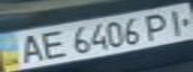0: (103, 18, 127, 48)
4: (87, 20, 112, 52)
6: (66, 22, 93, 55), (121, 15, 148, 46)
A: (9, 32, 48, 65)
E: (33, 27, 69, 61)
I: (160, 5, 193, 35)
P: (139, 10, 178, 40)
